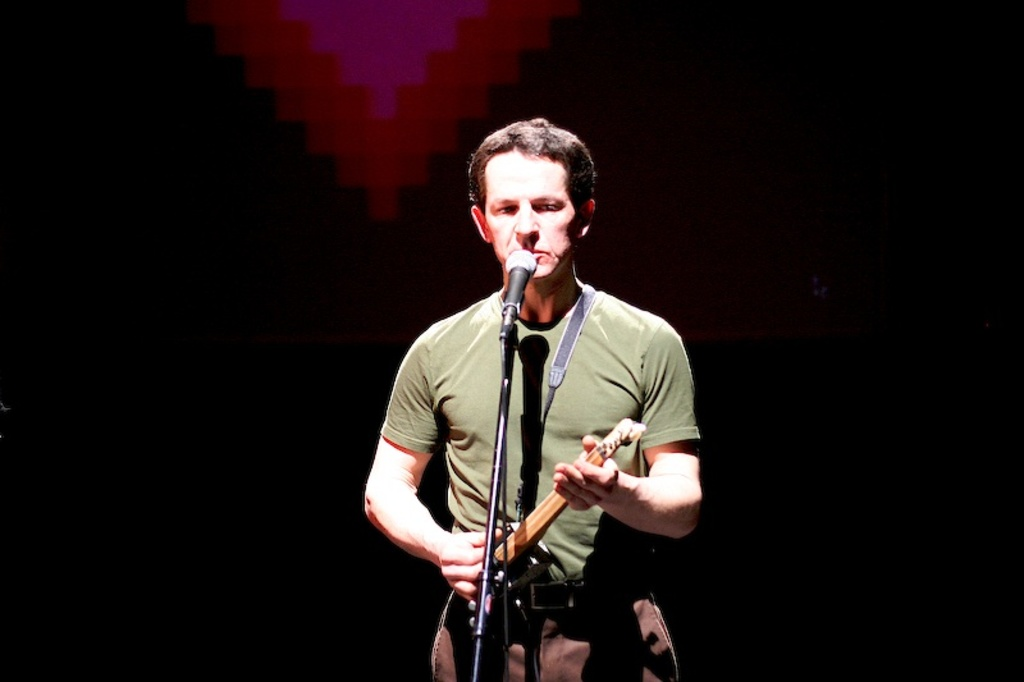Human_hand: (434, 522, 508, 607), (552, 453, 626, 532)
